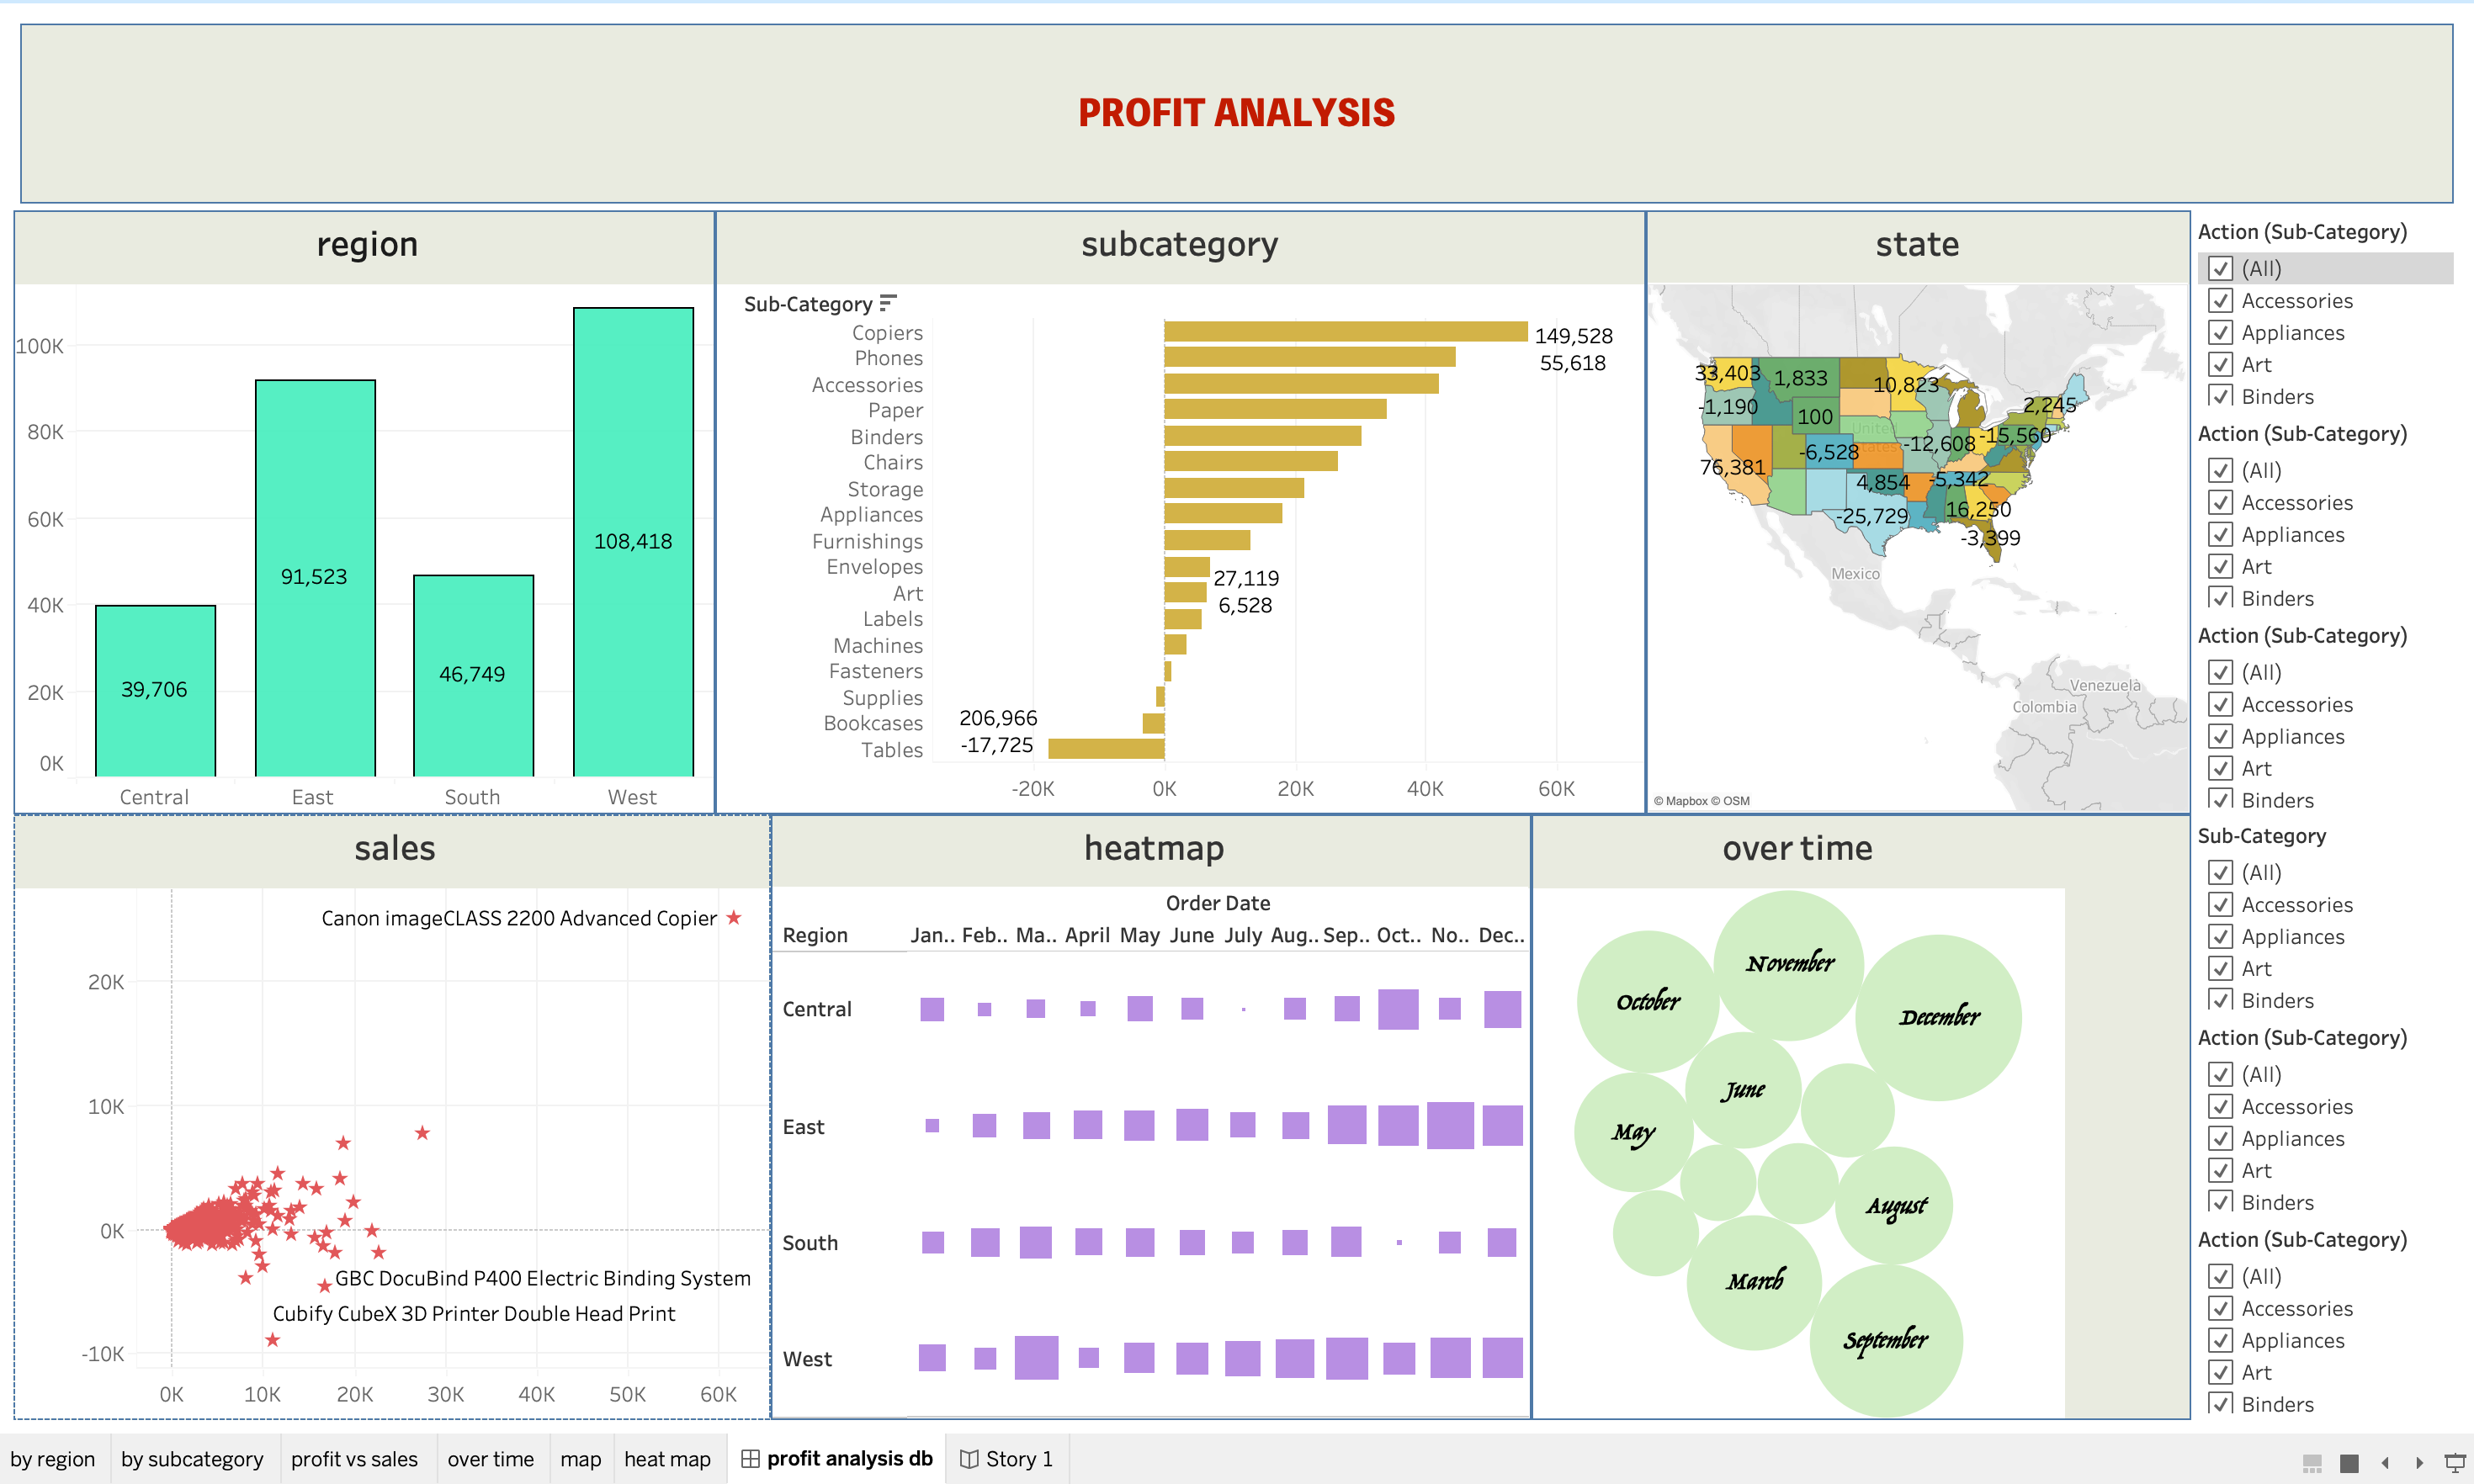

Layout of this report page (visuals, bound fields, positions):
{"tool":"tableau","page":{"name":"profit analysis db","canvas":[1000,1000],"units":"permille","ordinal":0},"visuals":[{"type":"text","box":[6.4,11.7,987.3,134.7]},{"type":"worksheet","title":"by region","mark":"Automatic","rows":["Profit"],"cols":["Region"],"box":[6.4,146.3,277.2,421]},{"type":"worksheet","title":"by subcategory","mark":"Automatic","rows":["Sub-Category"],"cols":["Profit"],"box":[283.5,146.3,367.9,421]},{"type":"worksheet","title":"map","mark":"Multipolygon","box":[651.5,146.3,215.1,421]},{"type":"filter","title":"over time","param":"[federated.1jnshuw1s693ys164ciub19lvo7e].[Action (Sub-Category)]","box":[866.6,146.3,127.1,140.3]},{"type":"filter","title":"map","param":"[federated.1jnshuw1s693ys164ciub19lvo7e].[Action (Sub-Category)]","box":[866.6,286.7,127.1,140.3]},{"type":"filter","title":"heat map","param":"[federated.1jnshuw1s693ys164ciub19lvo7e].[Action (Sub-Category)]","box":[866.6,427,127.1,140.3]},{"type":"worksheet","title":"profit vs sales","mark":"Automatic","rows":["Profit"],"cols":["Sales"],"box":[6.4,567.3,299.4,421]},{"type":"worksheet","title":"heat map","mark":"Automatic","rows":["Region"],"cols":["Order Date"],"box":[305.7,567.3,300.3,421]},{"type":"worksheet","title":"over time","mark":"Circle","box":[606,567.3,260.6,421]},{"type":"filter","title":"by subcategory","param":"[federated.1jnshuw1s693ys164ciub19lvo7e].[none:Sub-Category:nk]","box":[866.6,567.3,127.1,140.3]},{"type":"filter","title":"by region","param":"[federated.1jnshuw1s693ys164ciub19lvo7e].[Action (Sub-Category)]","box":[866.6,707.6,127.1,140.3]},{"type":"filter","title":"profit vs sales","param":"[federated.1jnshuw1s693ys164ciub19lvo7e].[Action (Sub-Category)]","box":[866.6,848,127.1,140.4]}]}

Visuals, with their boxes on the dashboard's canvas, which has no fixed pixel size, in thousandths of its width and height (x1, y1, x2, y2). These are canvas units, not pixel positions in the 2474x1484 screenshot, which may show the page scaled, cropped or inside an application window:
text: (6,12,994,146)
"by region" worksheet: (6,146,284,567)
"by subcategory" worksheet: (284,146,651,567)
"map" worksheet (Multipolygon marks): (652,146,867,567)
"over time" filter: (867,146,994,287)
"map" filter: (867,287,994,427)
"heat map" filter: (867,427,994,567)
"profit vs sales" worksheet: (6,567,306,988)
"heat map" worksheet: (306,567,606,988)
"over time" worksheet (Circle marks): (606,567,867,988)
"by subcategory" filter: (867,567,994,708)
"by region" filter: (867,708,994,848)
"profit vs sales" filter: (867,848,994,988)
